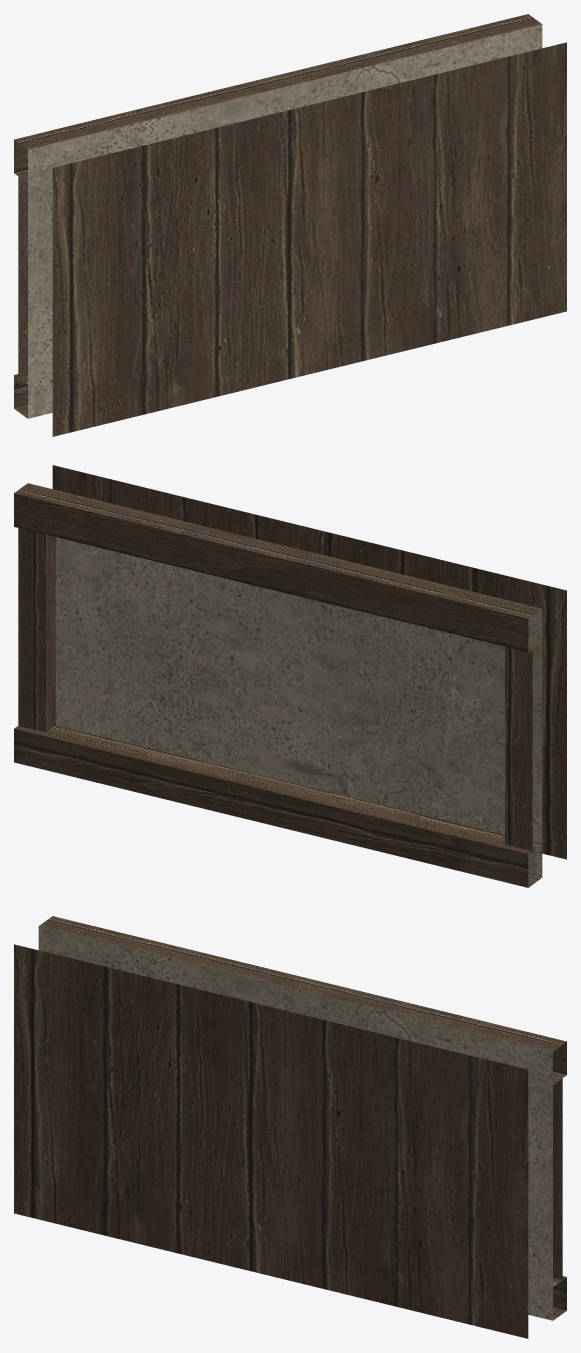
Rendered from ARC1010302.fbx.
3 views of the same model, one above another, from view 1: azimuth 30°, elevation 25°; view 2: azimuth 150°, elevation 25°; view 3: azimuth 330°, elevation 25° (orthographic).
Parts seen in each view (by area): view 1: smARC1010302; view 2: smARC1010302; view 3: smARC1010302.
Boxes of the visible parts, bbox=[...] form: smARC1010302: bbox=[14, 14, 566, 436]; smARC1010302: bbox=[14, 465, 566, 887]; smARC1010302: bbox=[14, 916, 566, 1338].
Bounding box in the file's own units: 268 × 134 × 34.9.
1 material, 1 textured.
